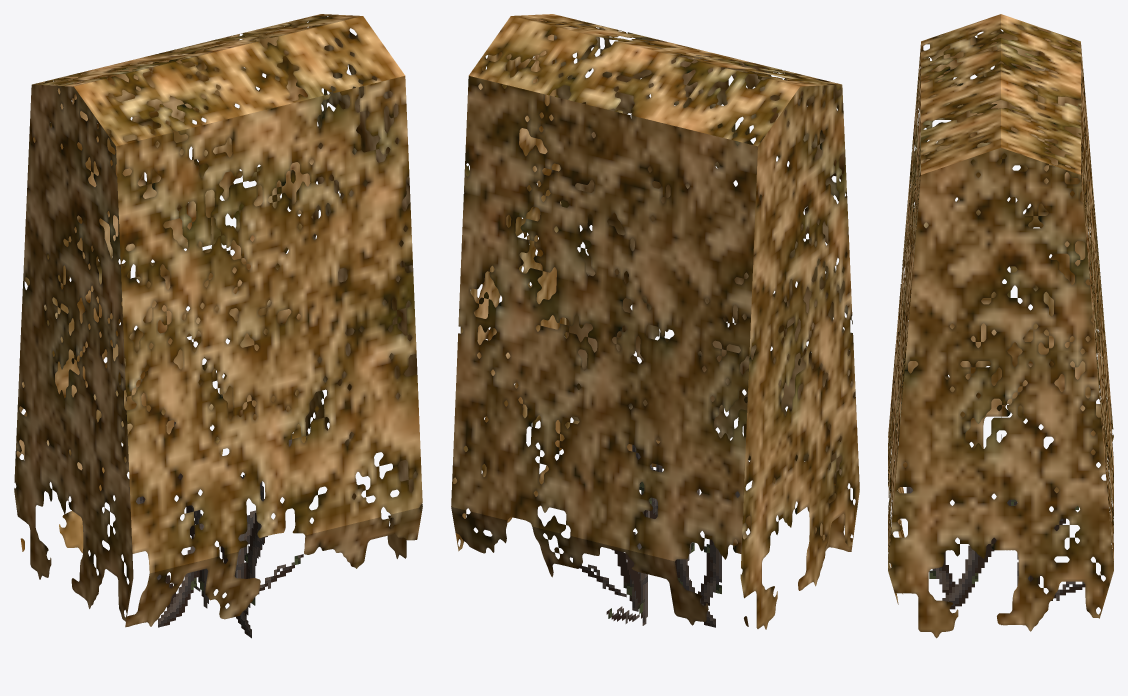
File: bush_tall_half_roots_autumn.fbx
3 views of the same model, side by side, from view 1: azimuth 30°, elevation 25°; view 2: azimuth 150°, elevation 25°; view 3: azimuth 270°, elevation 25° (orthographic). The views are drawn at different scales.
Parts seen in each view (by area): view 1: bush_tall_half_roots_autumn; view 2: bush_tall_half_roots_autumn; view 3: bush_tall_half_roots_autumn.
Part boxes in pixels (box(x1,y1,x2,y2)): bush_tall_half_roots_autumn: box(14, 14, 422, 638); bush_tall_half_roots_autumn: box(451, 14, 859, 629); bush_tall_half_roots_autumn: box(888, 14, 1113, 638).
Bounding box in the file's own units: 101 × 188 × 71.91.
Materials: 2 (2 with a texture image).
